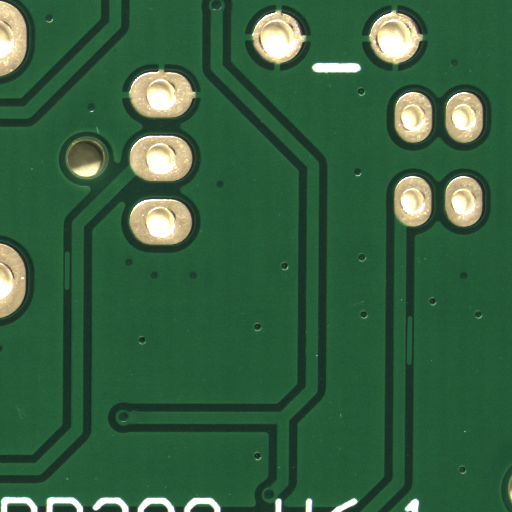Spurious_copper: (408, 339, 416, 393), (66, 269, 74, 312)
